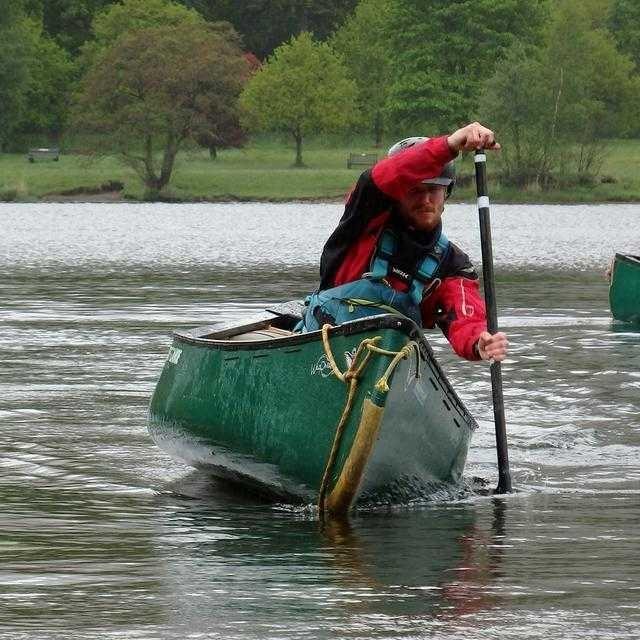kayak: (146, 304, 486, 514), (607, 253, 640, 323)
